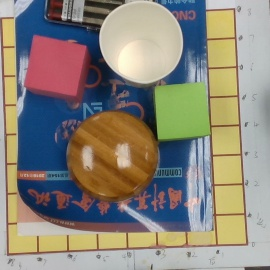chess: (66, 109, 156, 206)
cup: (99, 1, 183, 85)
